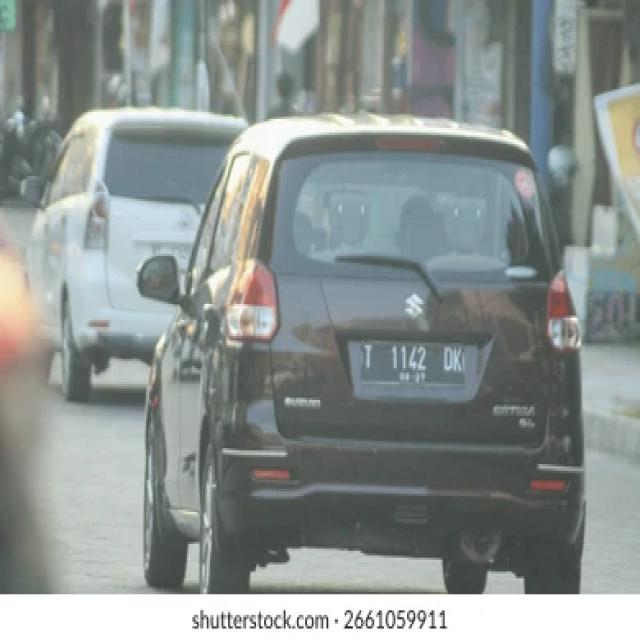suzuki: (403, 294, 428, 321)
